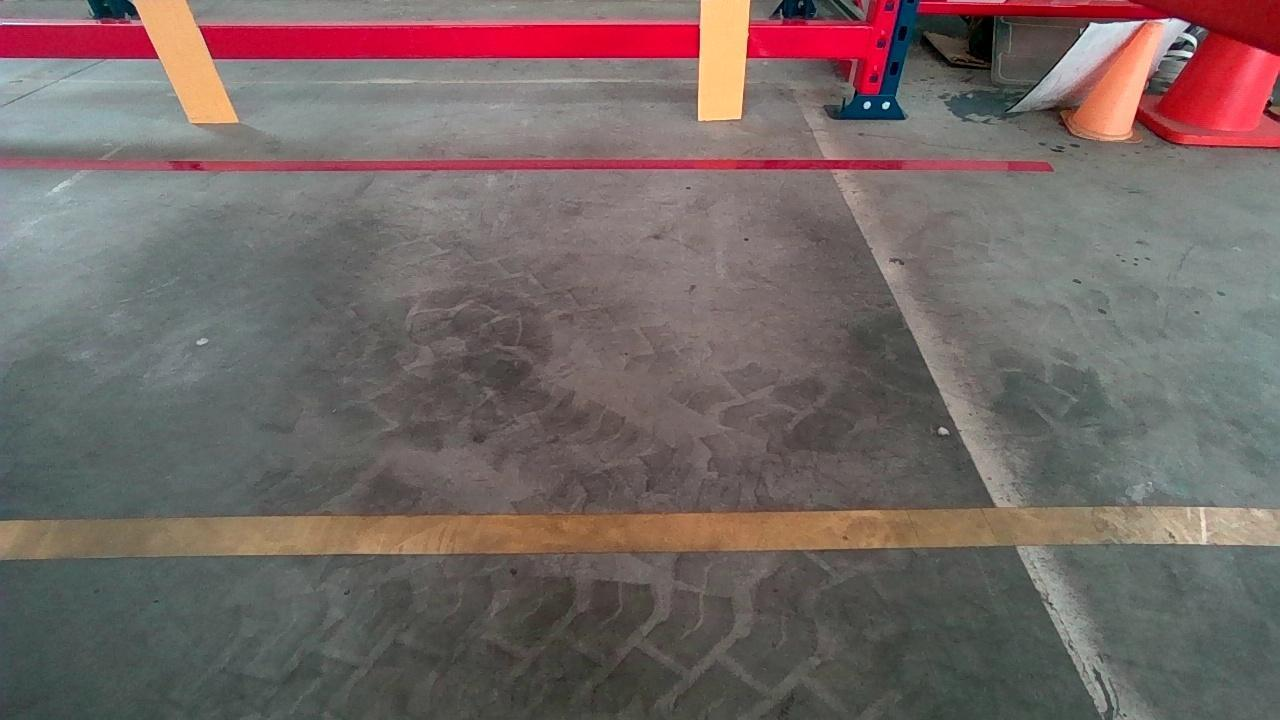h_rack: (0, 26, 873, 60)
orange_strip: (133, 0, 238, 119), (698, 1, 749, 118)
red_line: (0, 159, 1056, 174)
